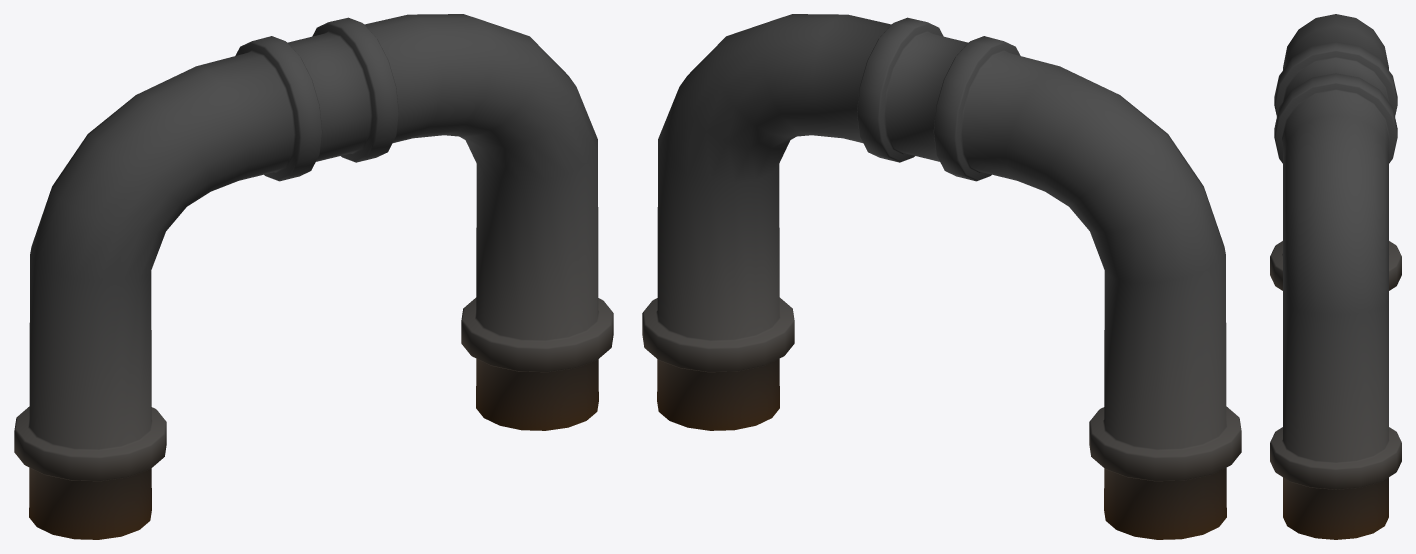
Rendered from SM_Props_Dessous_01.fbx.
The picture shows the model from 3 angles, left to right: view 1: azimuth 30°, elevation 25°; view 2: azimuth 150°, elevation 25°; view 3: azimuth 270°, elevation 25°; orthographic projection. The views are drawn at different scales.
Parts seen in each view (by area): view 1: transform18; view 2: transform18; view 3: transform18.
Part boxes in pixels (x1=…): transform18: x1=14, y1=14, x2=613, y2=539; transform18: x1=642, y1=14, x2=1241, y2=539; transform18: x1=1270, y1=14, x2=1401, y2=539.
Size of the model in its own units: 375 by 263 by 86.38.
